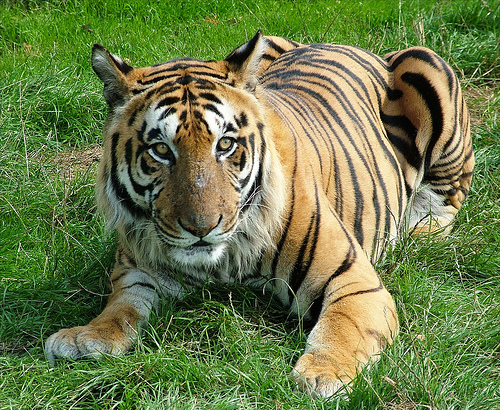Tigre: (75, 13, 486, 373)
